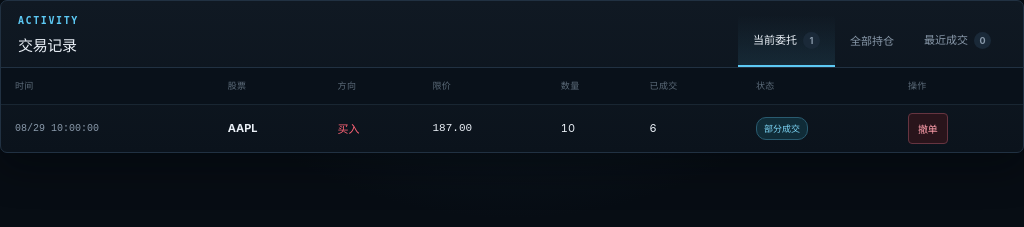
Test: terminal presentation components › shows a Chinese API error after a failed cancel
The width and height of the screenshot is (1024, 227).
Click the button "撤单" at (928, 128), box [908, 112, 948, 144]
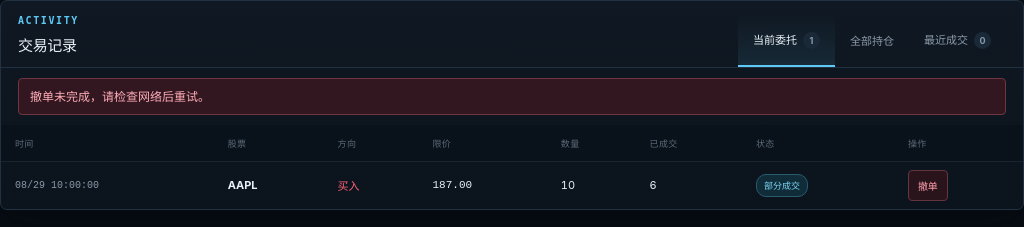
Check: the button "撤单" is enabled, box [908, 170, 948, 201]
Check: the message "撤单未完成，请检查网络后重试。" is shown, box [18, 78, 1006, 115]
